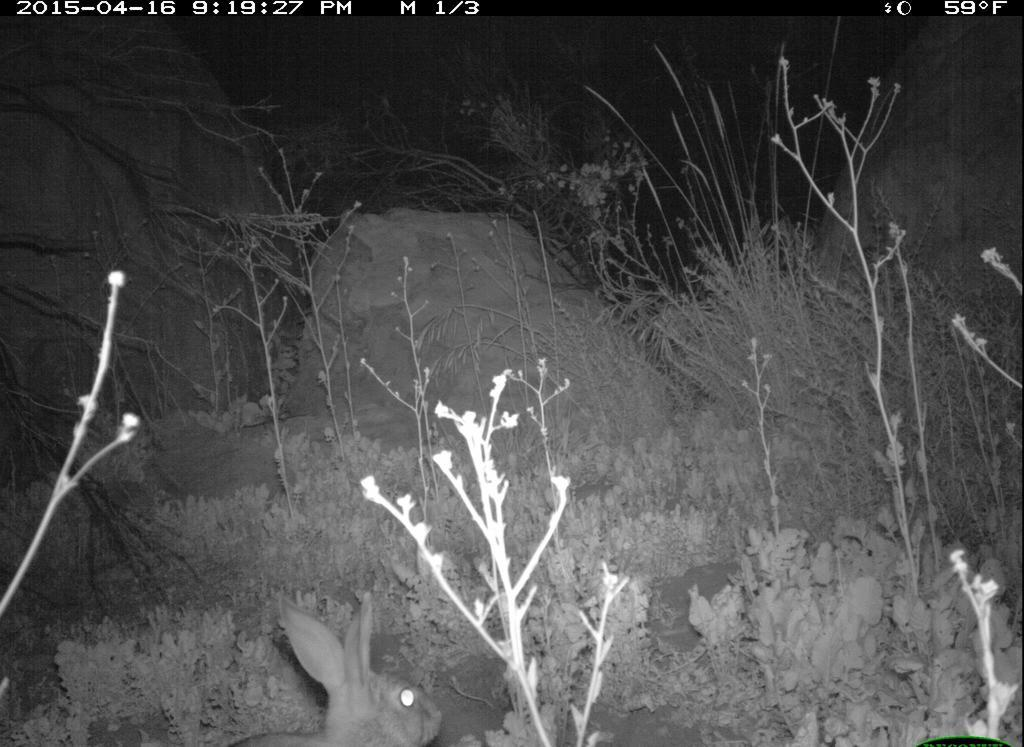rabbit: (217, 588, 451, 747)
